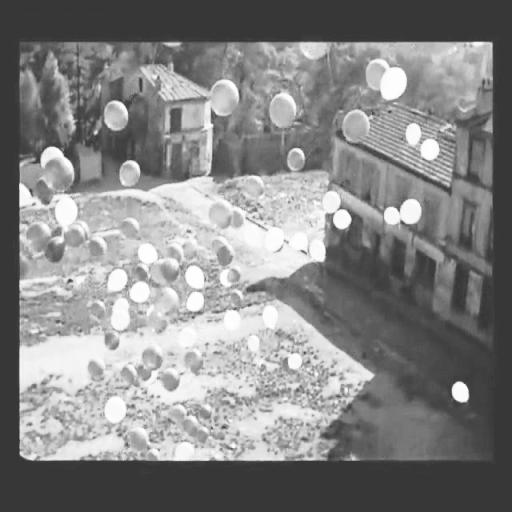balloon: (268, 92, 296, 130), (210, 79, 238, 116), (342, 109, 370, 144), (380, 68, 406, 102), (152, 287, 180, 316), (103, 99, 128, 131), (47, 160, 73, 189), (27, 224, 51, 253), (146, 310, 170, 336), (118, 160, 140, 186), (405, 118, 423, 149), (368, 60, 386, 90), (152, 263, 180, 282), (65, 220, 89, 242), (210, 202, 230, 228), (107, 394, 124, 424), (58, 198, 76, 226), (34, 181, 54, 206), (320, 192, 340, 216), (287, 147, 305, 172), (40, 144, 60, 166), (108, 269, 127, 291), (402, 198, 420, 221), (187, 265, 205, 288), (299, 42, 328, 56), (243, 176, 263, 196), (143, 346, 163, 366), (139, 242, 157, 264), (130, 426, 146, 450), (109, 268, 126, 290), (87, 236, 107, 254), (125, 216, 140, 240), (110, 311, 130, 329), (167, 404, 185, 424), (246, 224, 262, 246), (188, 290, 204, 312), (181, 326, 197, 348), (50, 236, 65, 259), (270, 228, 284, 252), (453, 379, 468, 401), (162, 372, 180, 390), (188, 350, 205, 369), (134, 263, 151, 282), (90, 356, 106, 376), (133, 284, 151, 301), (224, 312, 240, 330), (166, 244, 182, 262), (123, 364, 137, 384), (421, 143, 438, 159), (290, 232, 306, 249), (312, 239, 326, 258), (266, 307, 278, 328), (210, 238, 228, 252), (183, 240, 197, 258), (113, 296, 131, 310), (107, 328, 119, 349), (386, 207, 400, 224), (286, 356, 302, 370), (219, 250, 233, 266), (20, 256, 30, 278), (221, 268, 232, 288), (232, 290, 244, 308), (147, 446, 162, 460), (232, 210, 246, 224), (246, 334, 260, 348), (338, 212, 350, 228), (139, 365, 151, 381), (199, 428, 211, 444), (220, 248, 233, 262), (202, 404, 214, 418), (18, 185, 28, 200), (180, 446, 192, 457), (186, 420, 196, 433), (230, 270, 242, 279)
